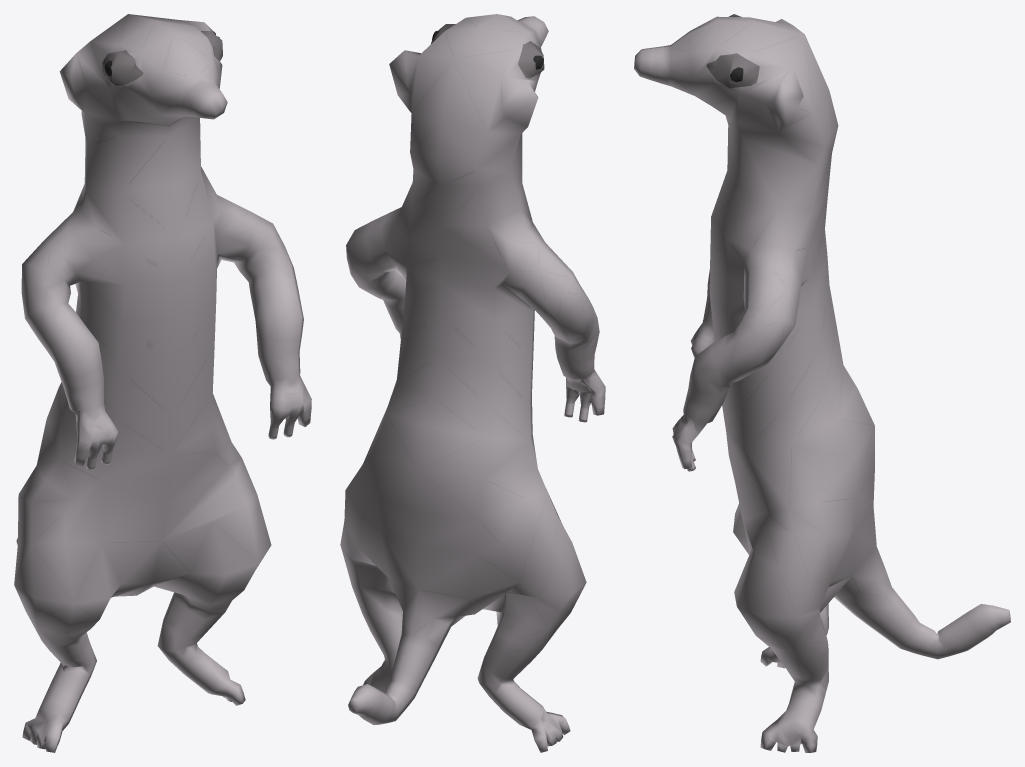
The model's file is meerkat.glb.
3 views of the same model, side by side, from view 1: azimuth 30°, elevation 25°; view 2: azimuth 150°, elevation 25°; view 3: azimuth 270°, elevation 25° (orthographic). The views are drawn at different scales.
Size of the model in its own units: 0.3679 by 0.9823 by 0.4842.
Materials: 1 (1 with a texture image).
